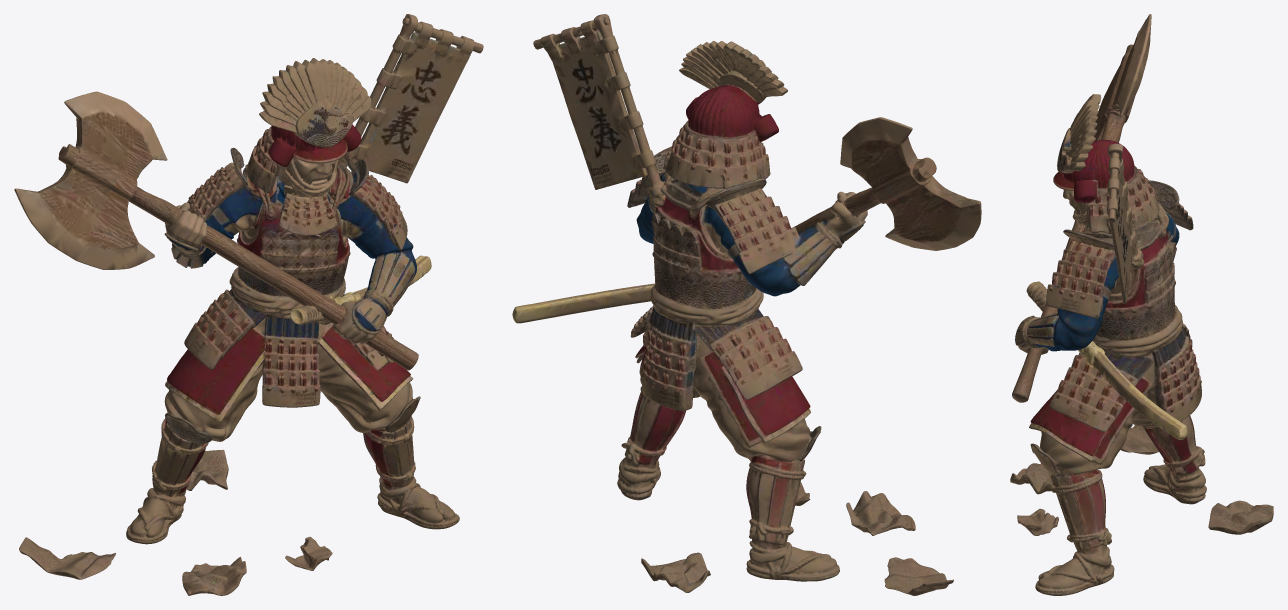
Rendered from Meshy_AI_Cardboard_Samurai_War_1021161417_texture.glb.
The picture shows the model from 3 angles, left to right: view 1: azimuth 30°, elevation 25°; view 2: azimuth 150°, elevation 25°; view 3: azimuth 270°, elevation 25°; orthographic projection. The views are drawn at different scales.
Bounding box in the file's own units: 1.87 × 1.89 × 1.
Materials: 1 (1 with a texture image).
